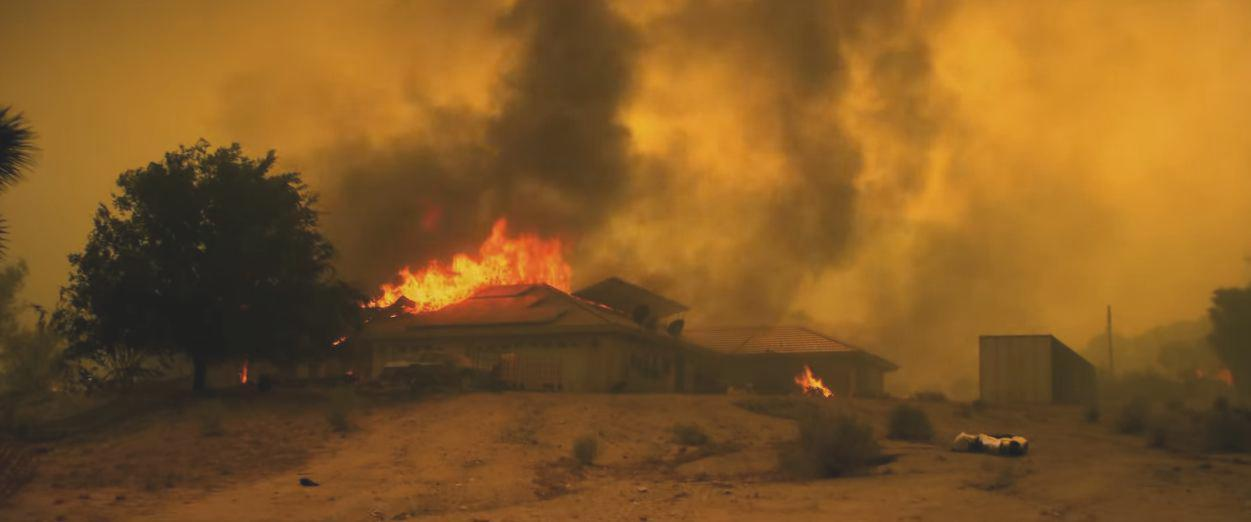fire: (356, 215, 578, 321), (793, 361, 836, 400)
